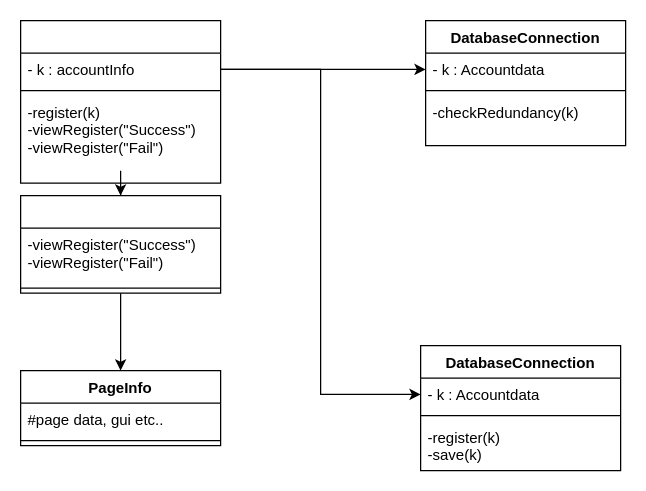
The diagram is 646 pixels wide and 491 high, and some of its shapes have lost their labels. Each missing label, with the box of its shape:
Controller: (19, 19, 221, 183)
PageMaker: (19, 194, 221, 293)
